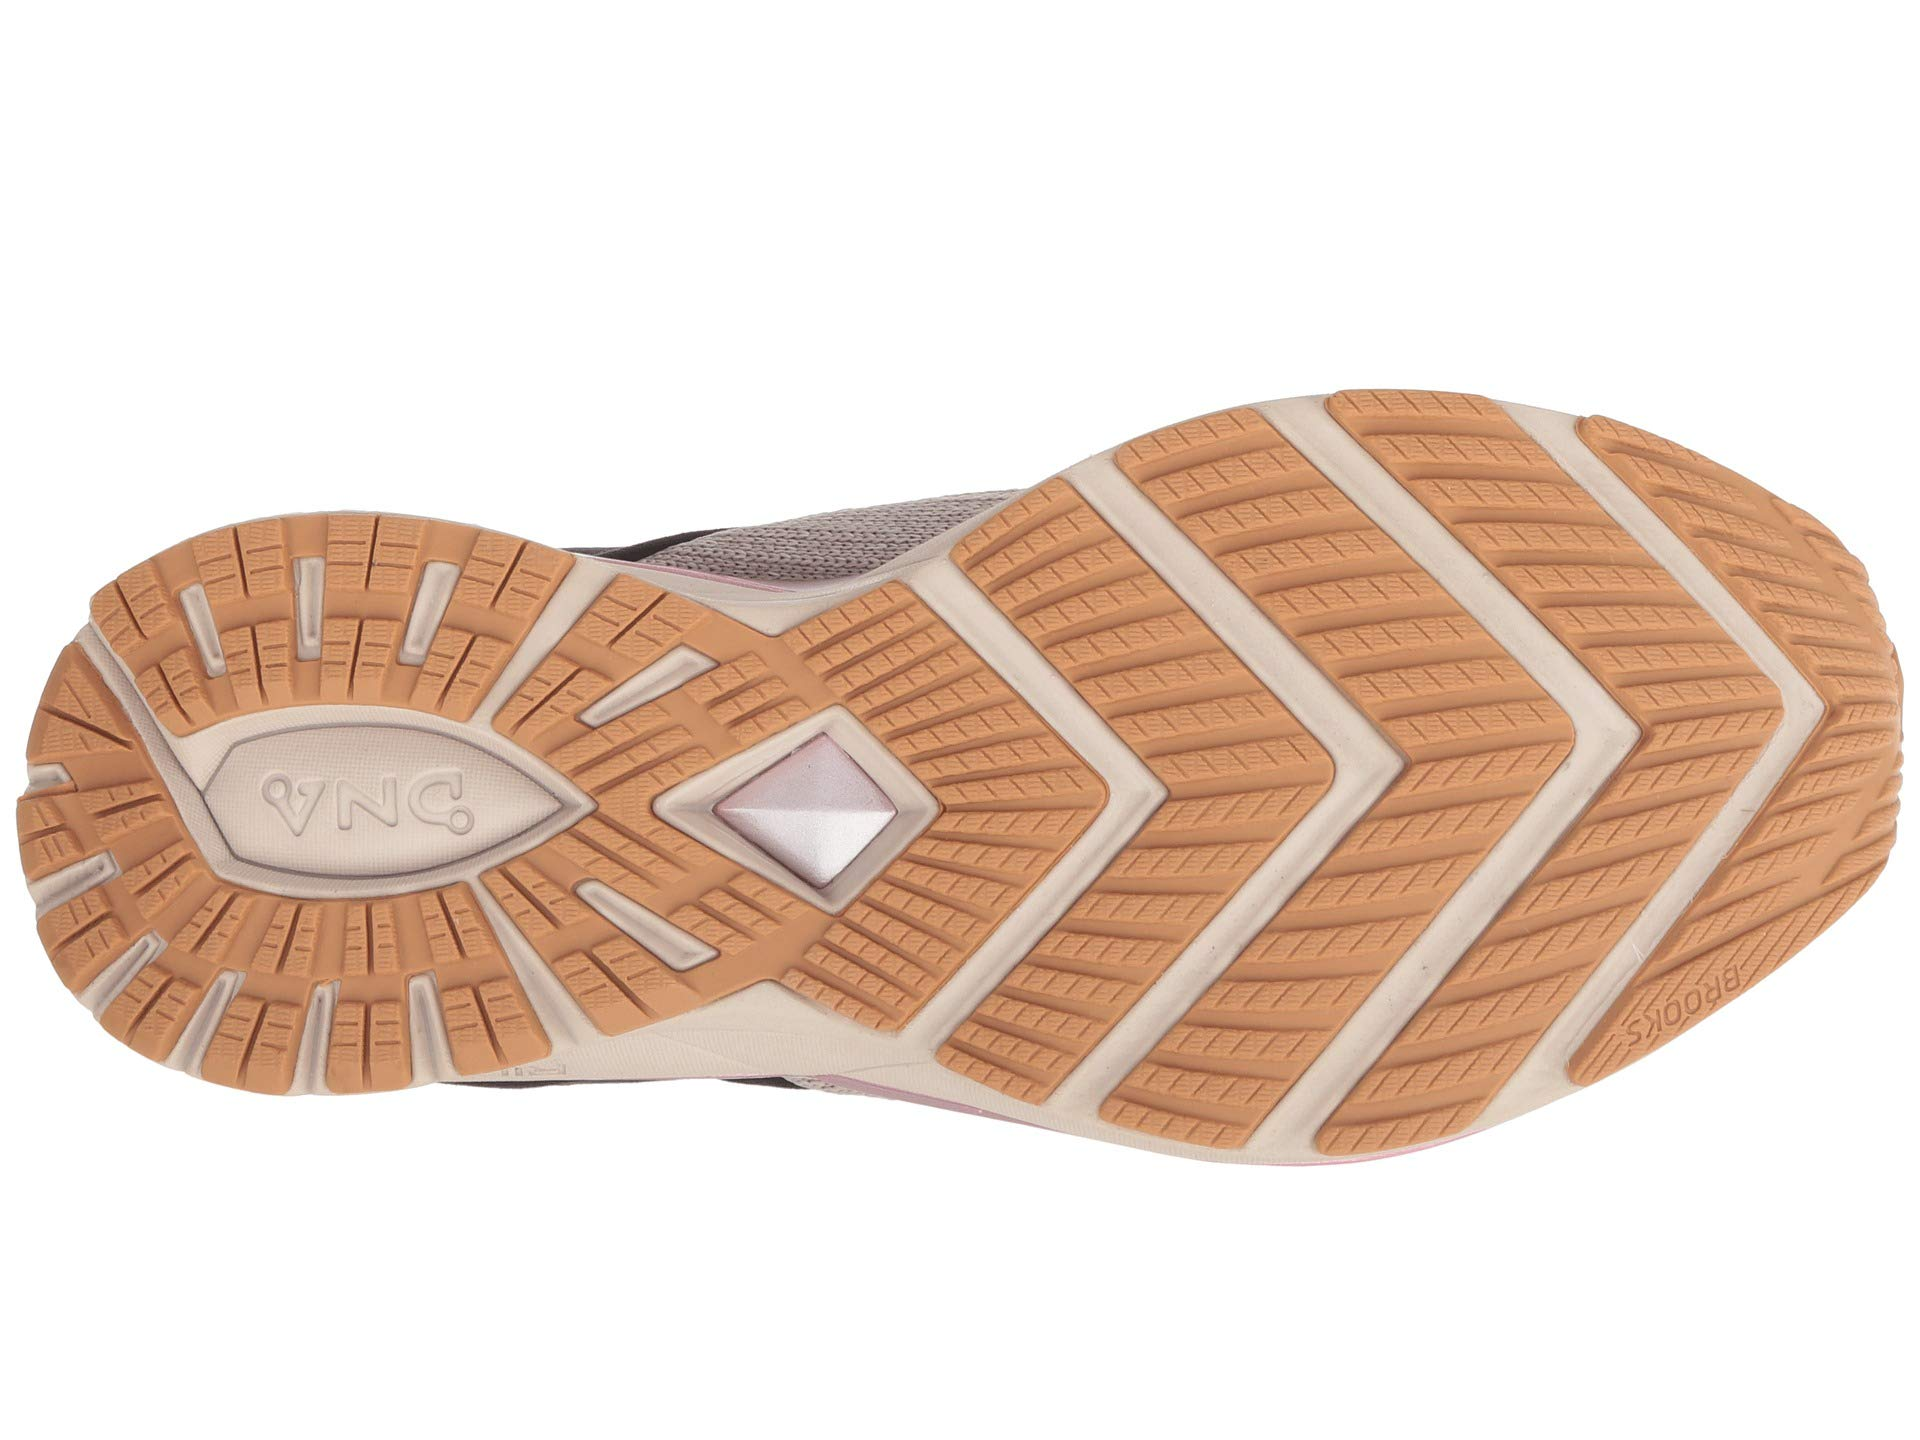chevron: (945, 538, 1553, 1063)
circle: (159, 687, 574, 911)
quad: (945, 538, 1553, 1063), (159, 687, 574, 911), (626, 646, 949, 924), (1492, 481, 1615, 608)
text: (159, 687, 574, 911)
